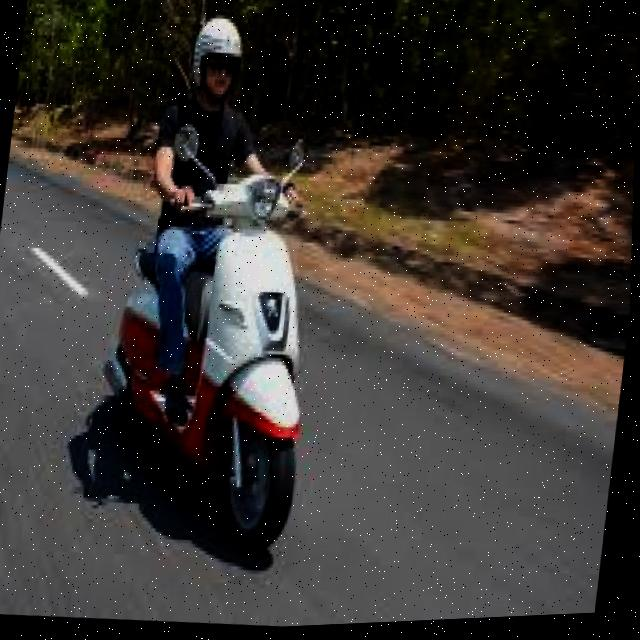motorcycle: (84, 105, 344, 568)
